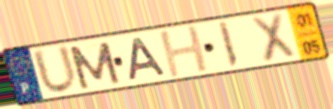A: (128, 35, 170, 83)
H: (157, 23, 212, 81)
I: (216, 20, 242, 70)
M: (66, 40, 124, 92)
U: (29, 43, 81, 97)
X: (248, 11, 299, 65)
